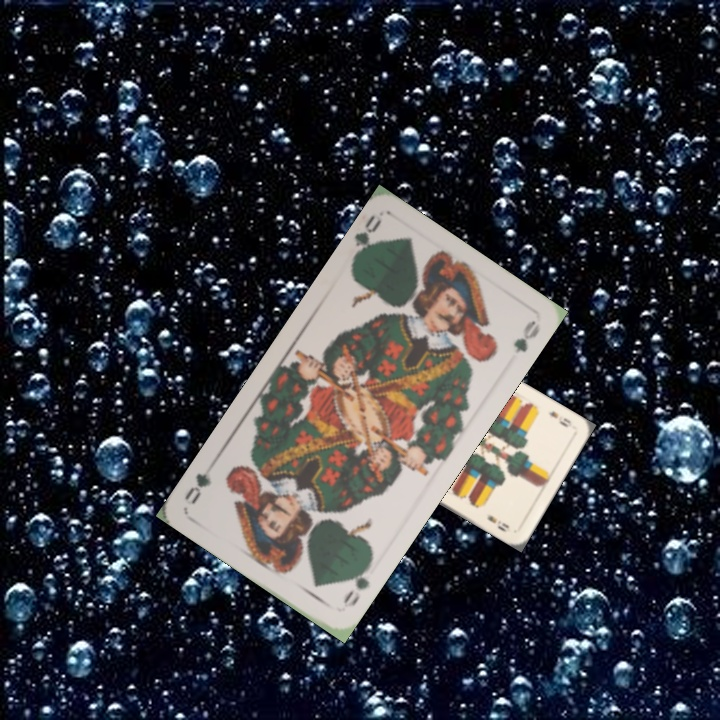E9: (545, 407, 574, 430)
GO: (348, 210, 384, 267), (339, 558, 374, 610)
